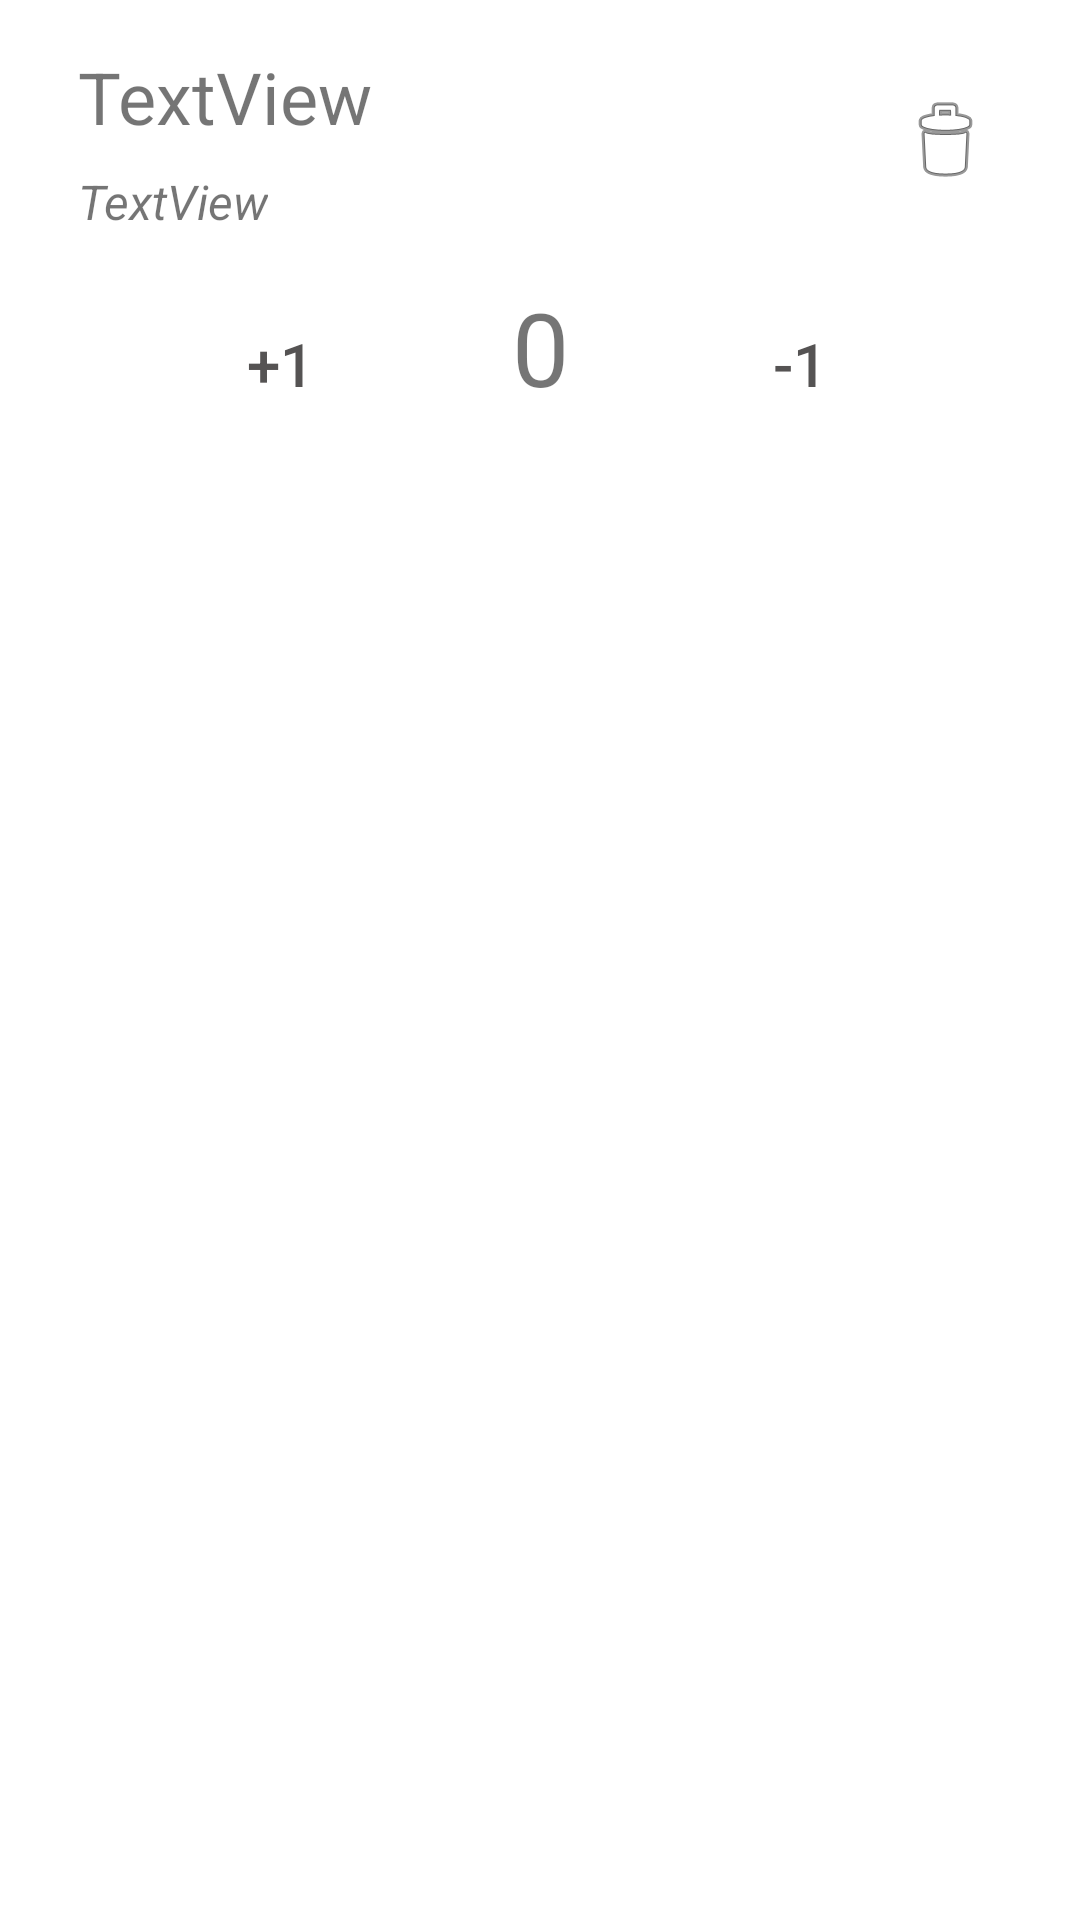

Named icons in this screenshot (1080px x 1920px) and their centers, (x,y):
delete: (945,139)
